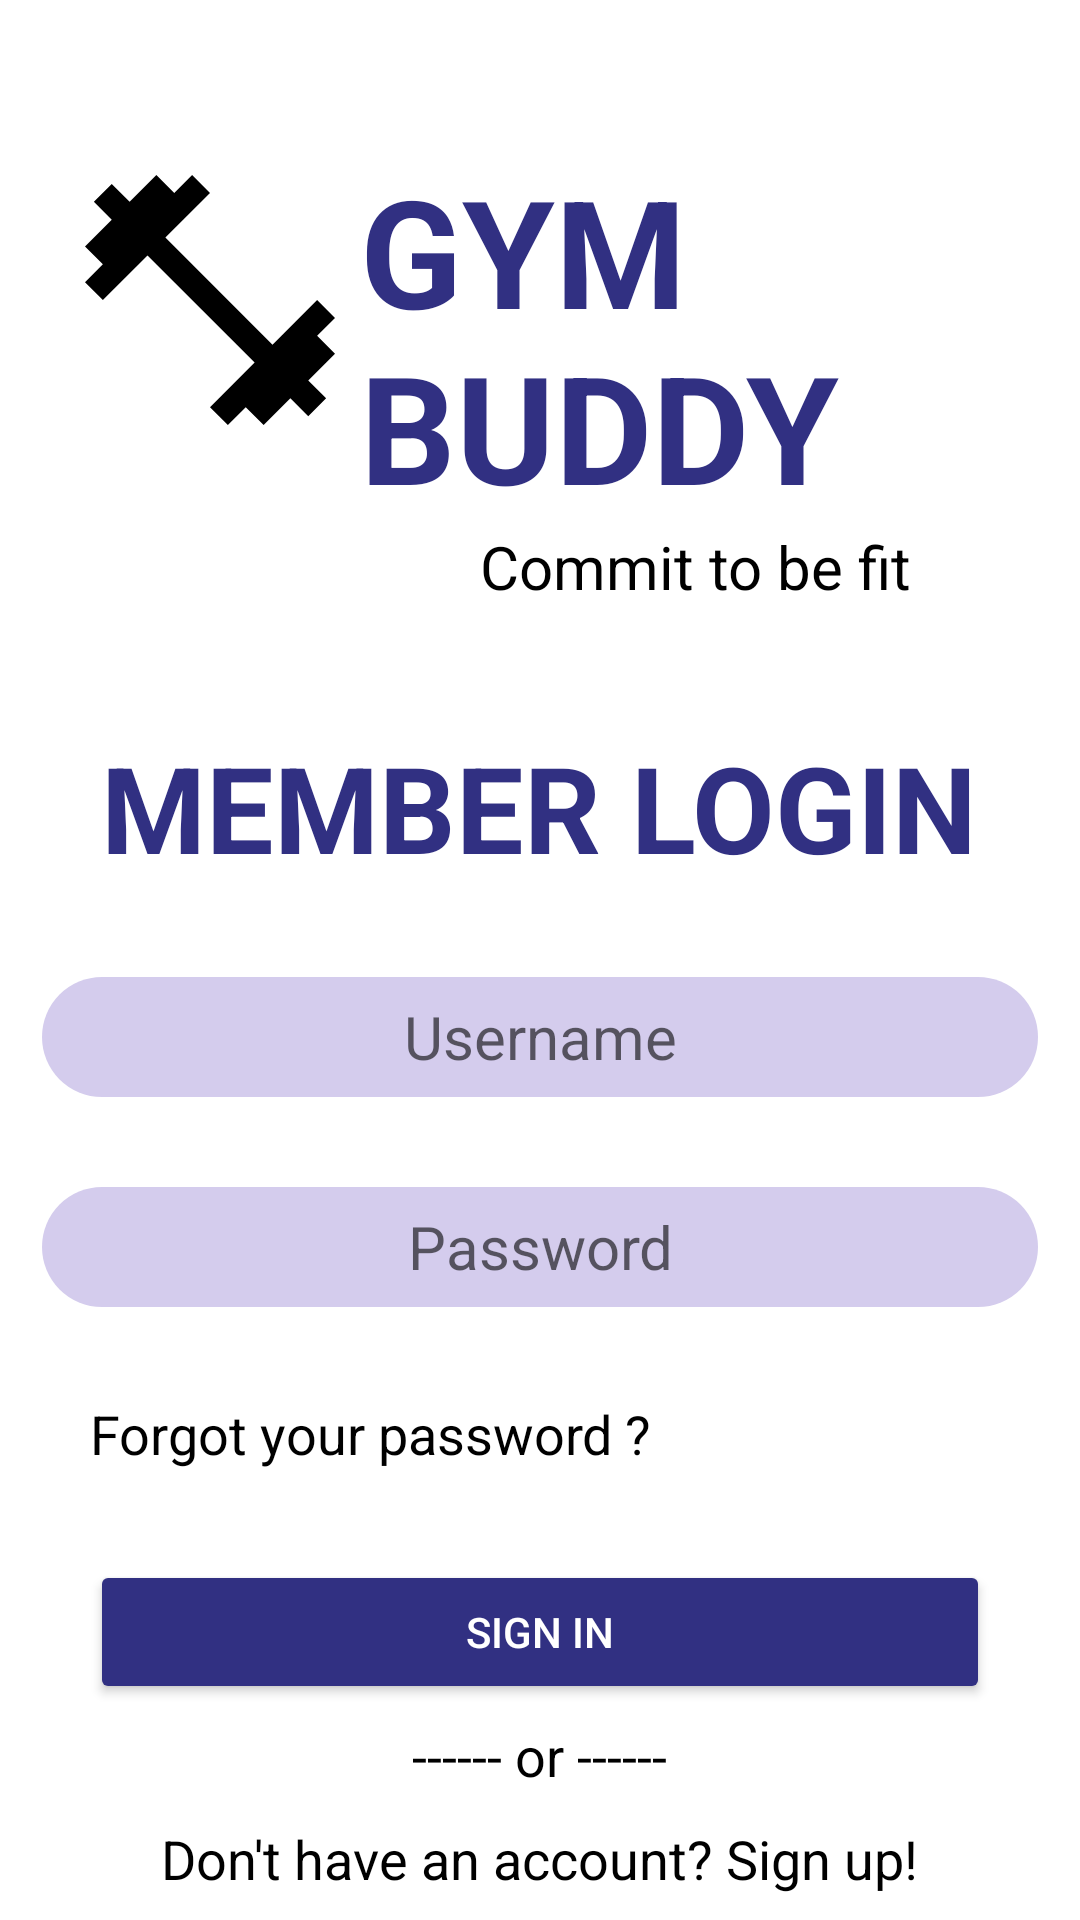

Point at icon controls on the screen. Image size 1080 x 1920, points as (x=x, y=y).
fitness center: (x=210, y=300)
